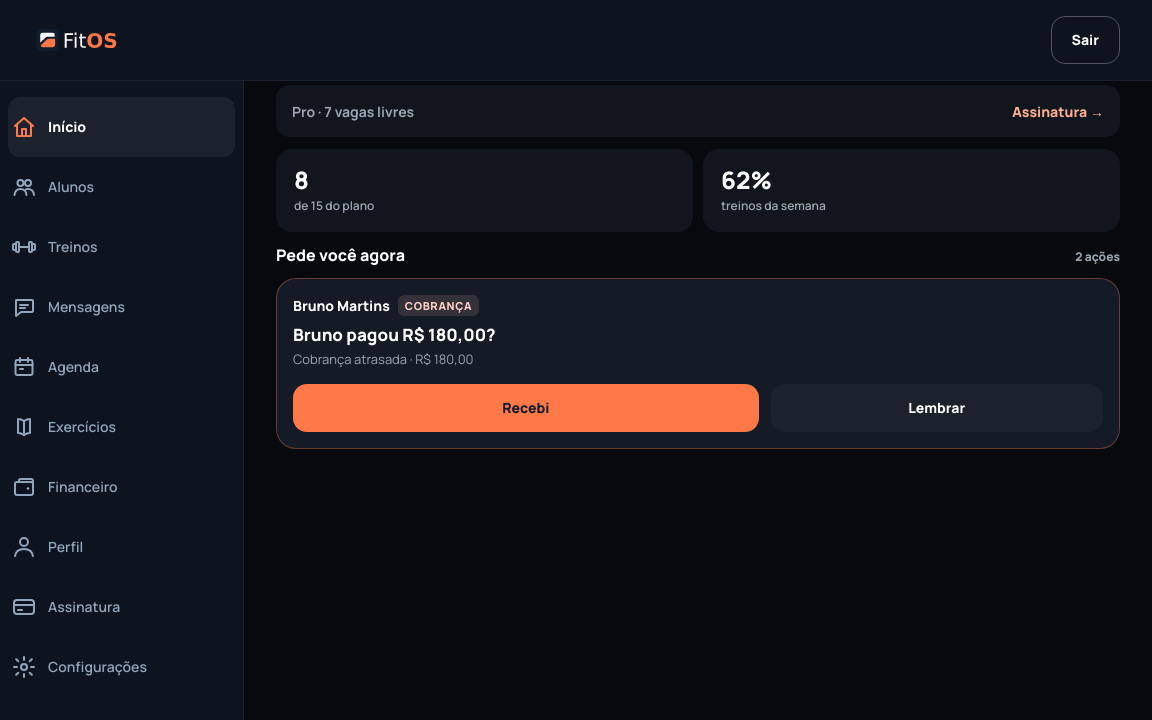
Test case: Início do personal em fila (EPIC-29) › uma decisão por vez: Recebi resolve no lugar, com Desfazer, e passa para a próxima
Expected: the text "2 ações" is shown, [1075,248,1120,265]
Expected: the text "Bruno pagou R$ 180,00?" is shown, [293,323,496,346]
Click the button "Recebi" at (526, 408), box [293,384,758,432]
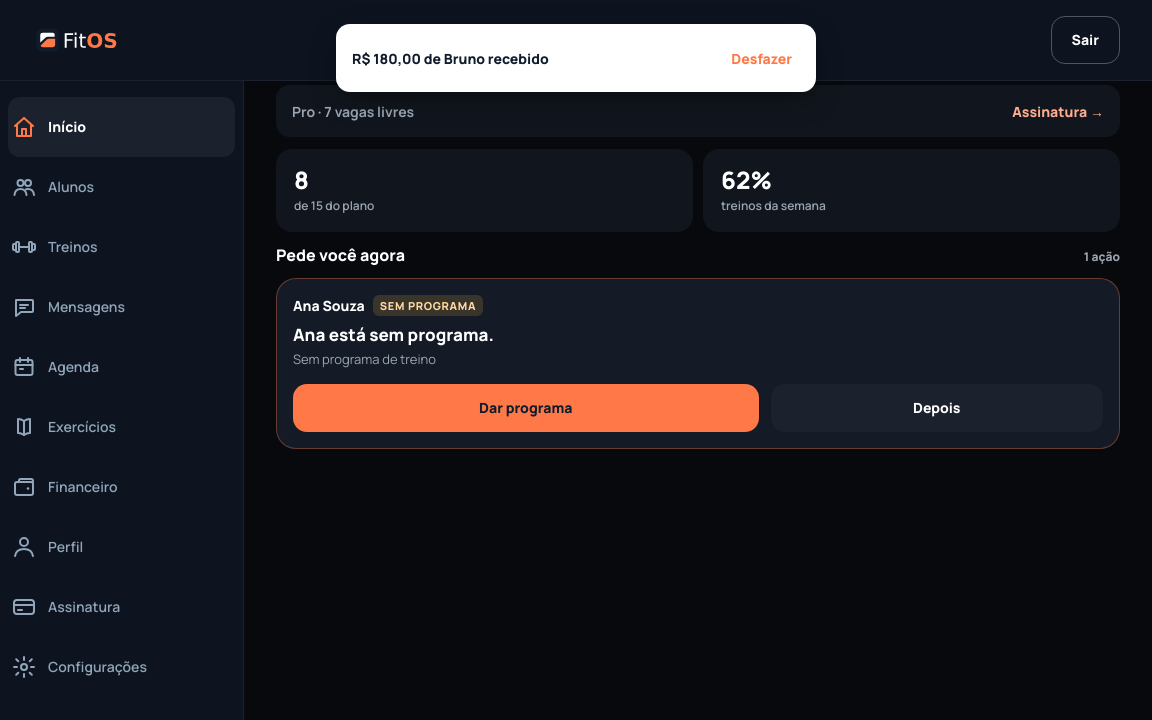
Now the text "1 ação" is shown, box [1084,248,1120,265]
Now the text "Ana está sem programa." is shown, box [293,323,494,346]
Click the button "Desfazer" at (762, 58), box [723,38,800,78]
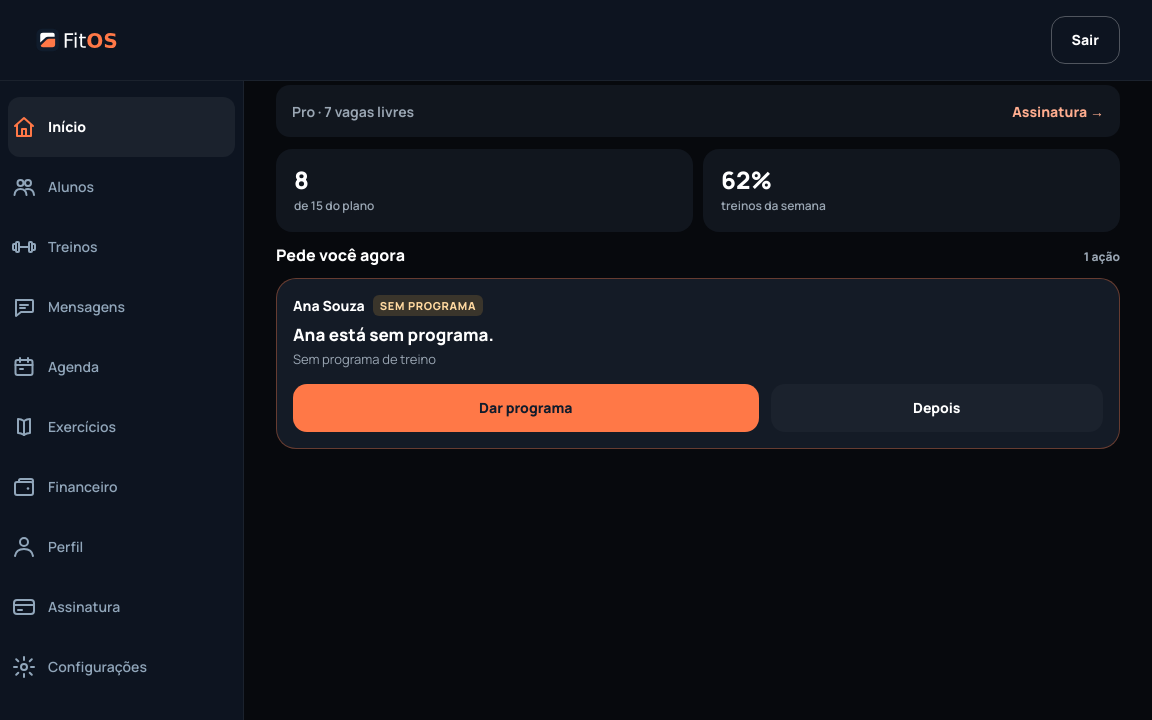
Click the button "Depois" at (937, 408), box [770,384,1103,432]
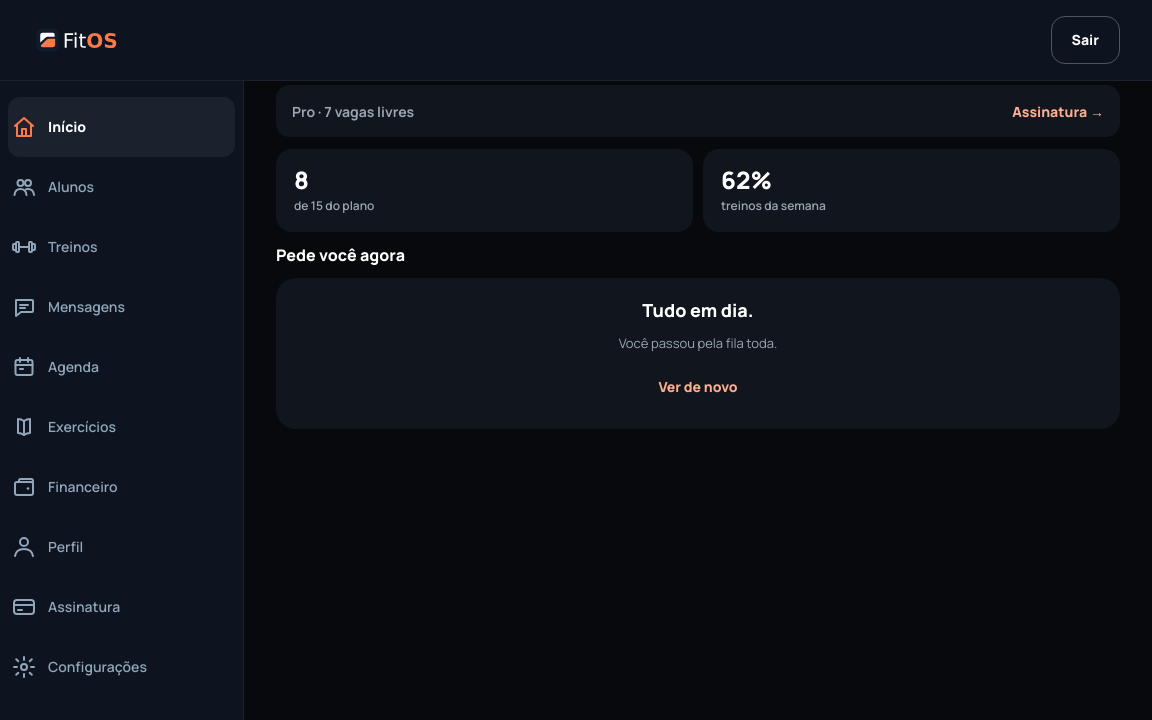
Now the text "Tudo em dia." is shown, box [642,298,754,322]
